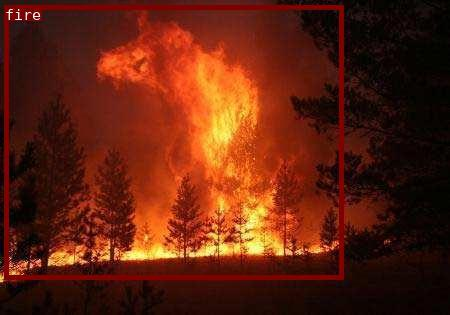fire: (3, 5, 342, 279)
